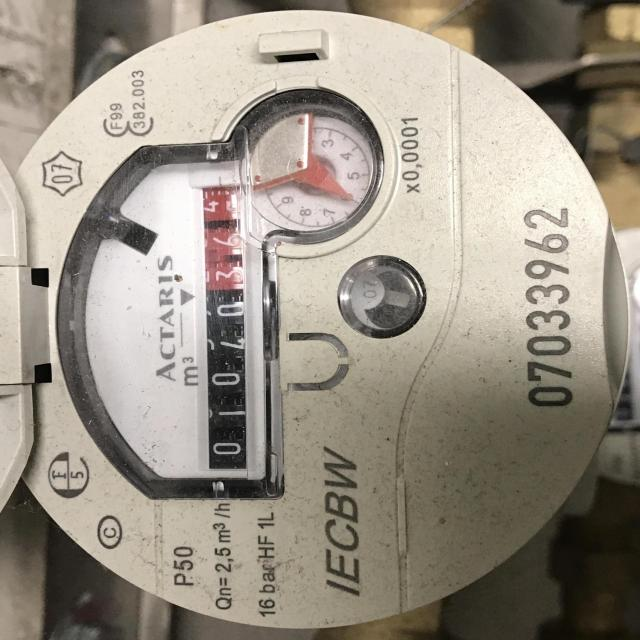gaz_meter: (4, 8, 629, 632)
indication: (204, 184, 251, 470)
